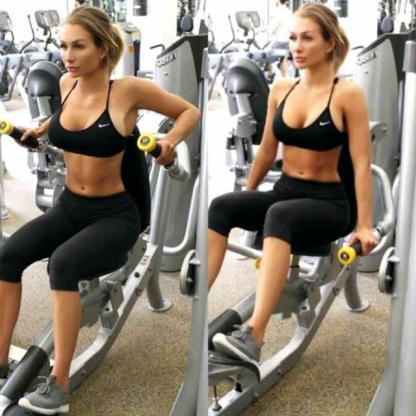seated dip machine: (0, 110, 201, 416)
